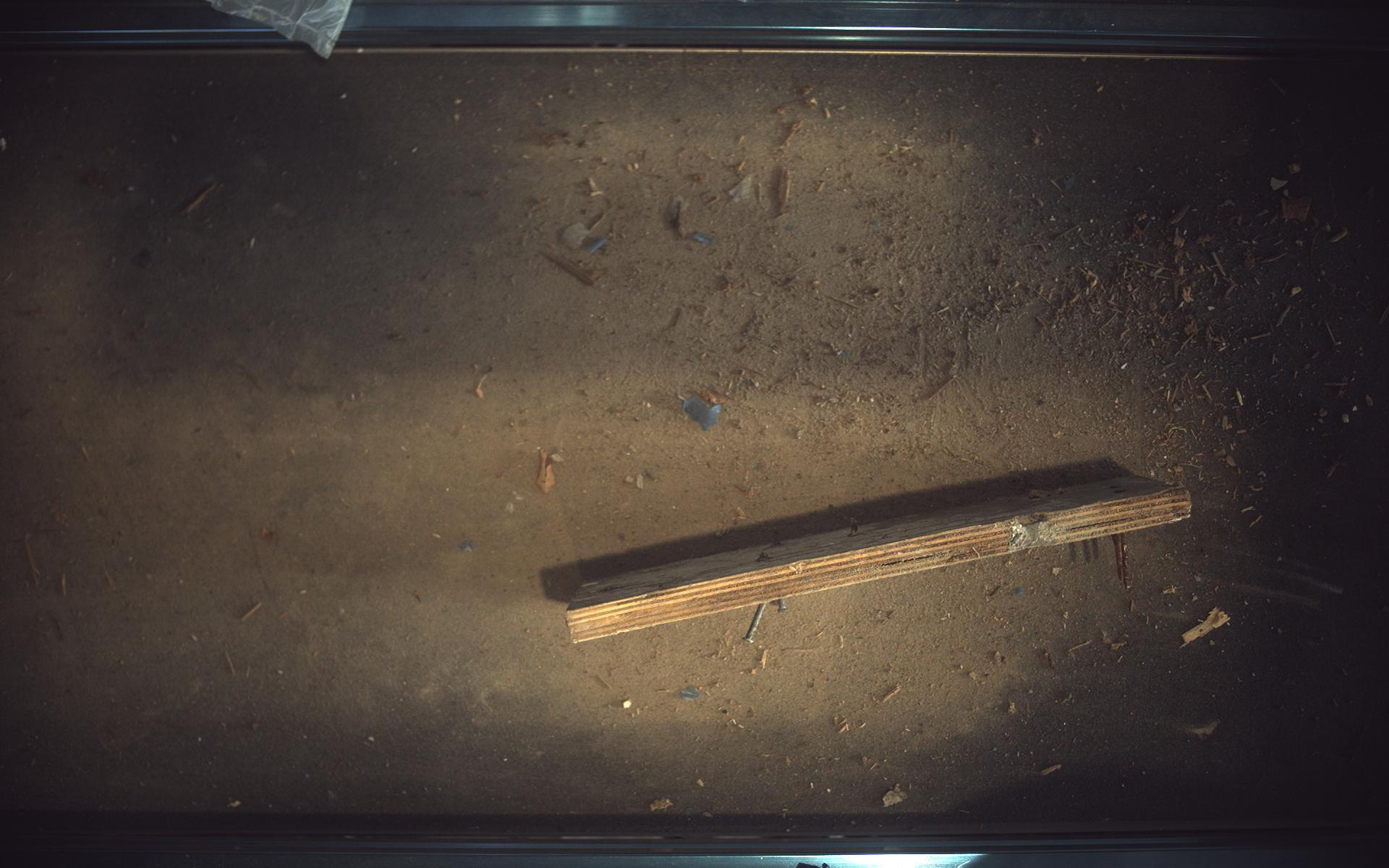wood: (567, 477, 1194, 643)
